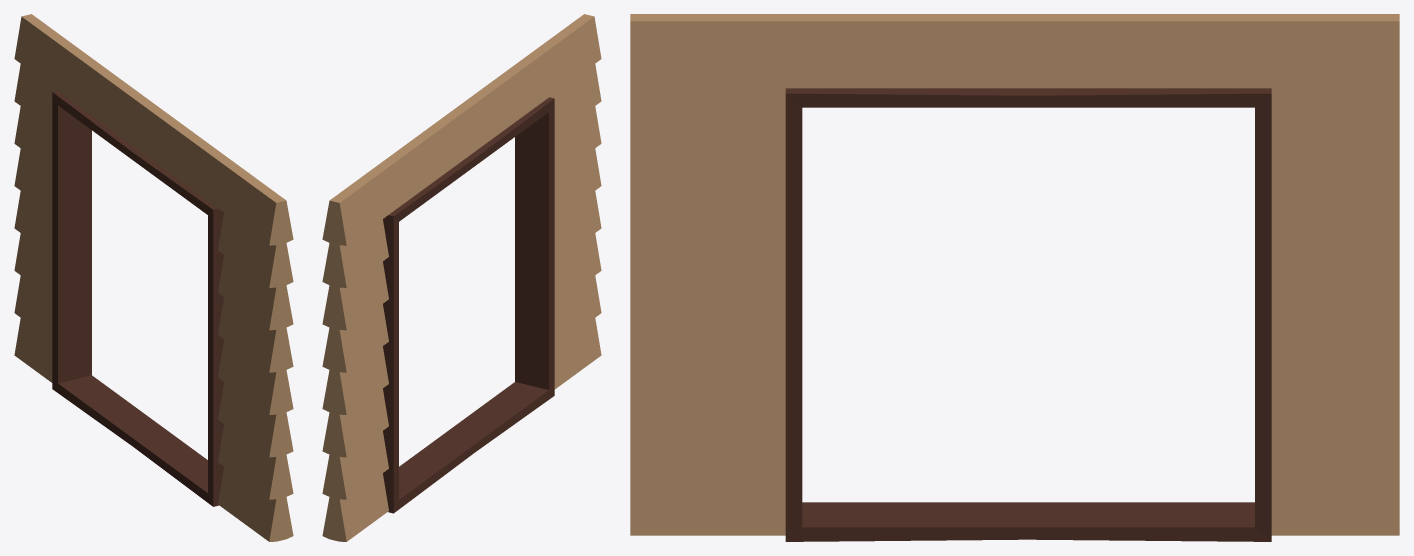
File: Wall Door A-col.glb
The picture shows the model from 3 angles, left to right: view 1: azimuth 30°, elevation 25°; view 2: azimuth 150°, elevation 25°; view 3: azimuth 270°, elevation 25°; orthographic projection. The views are drawn at different scales.
Parts seen in each view (by area): view 1: Wall Door A-col.001; view 2: Wall Door A-col.001; view 3: Wall Door A-col.001.
Part boxes in pixels (<box>): Wall Door A-col.001: <box>14,14,293,541</box>; Wall Door A-col.001: <box>322,14,601,541</box>; Wall Door A-col.001: <box>630,14,1399,541</box>.
Bounding box in the file's own units: 0.2339 × 2.2 × 3.
